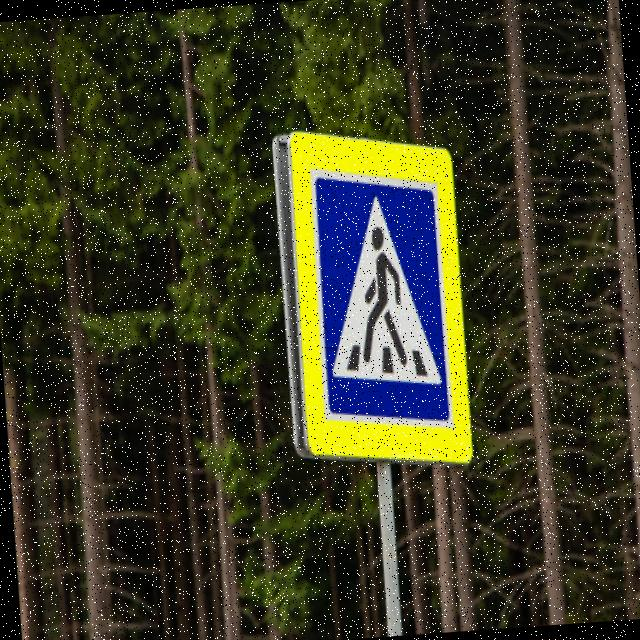crosswalk: (300, 157, 456, 442)
